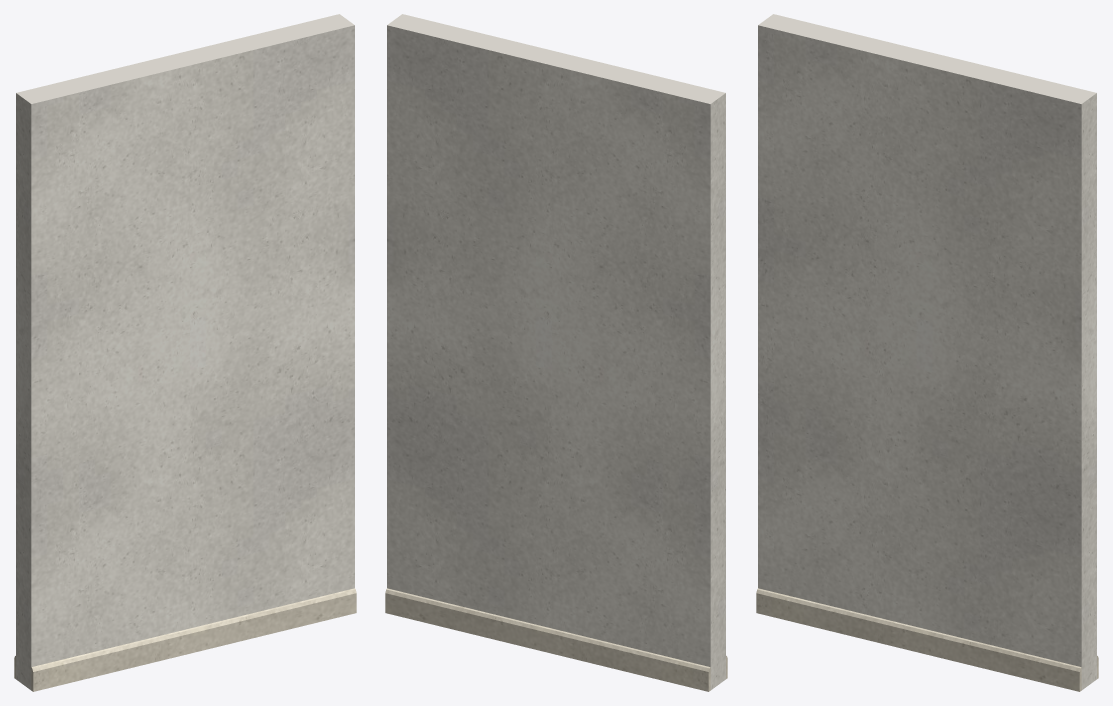
The model's file is iw_end_plain.glb.
3 views of the same model, side by side, from view 1: azimuth 30°, elevation 25°; view 2: azimuth 150°, elevation 25°; view 3: azimuth 330°, elevation 25° (orthographic).
Visible parts, largest first — view 1: iw_end_plain_plaster, iw_end_plain_trim; view 2: iw_end_plain_plaster, iw_end_plain_trim; view 3: iw_end_plain_plaster, iw_end_plain_trim.
Boxes of the visible parts, box(x1,y1,x2,y2) form: iw_end_plain_plaster: box(16, 14, 354, 690); iw_end_plain_trim: box(14, 588, 356, 691); iw_end_plain_plaster: box(387, 14, 725, 690); iw_end_plain_trim: box(385, 588, 727, 691); iw_end_plain_plaster: box(758, 14, 1096, 690); iw_end_plain_trim: box(756, 588, 1098, 691).
Bounding box in the file's own units: 1.7 × 2.94 × 0.172.
Materials: 2 (2 with a texture image).
